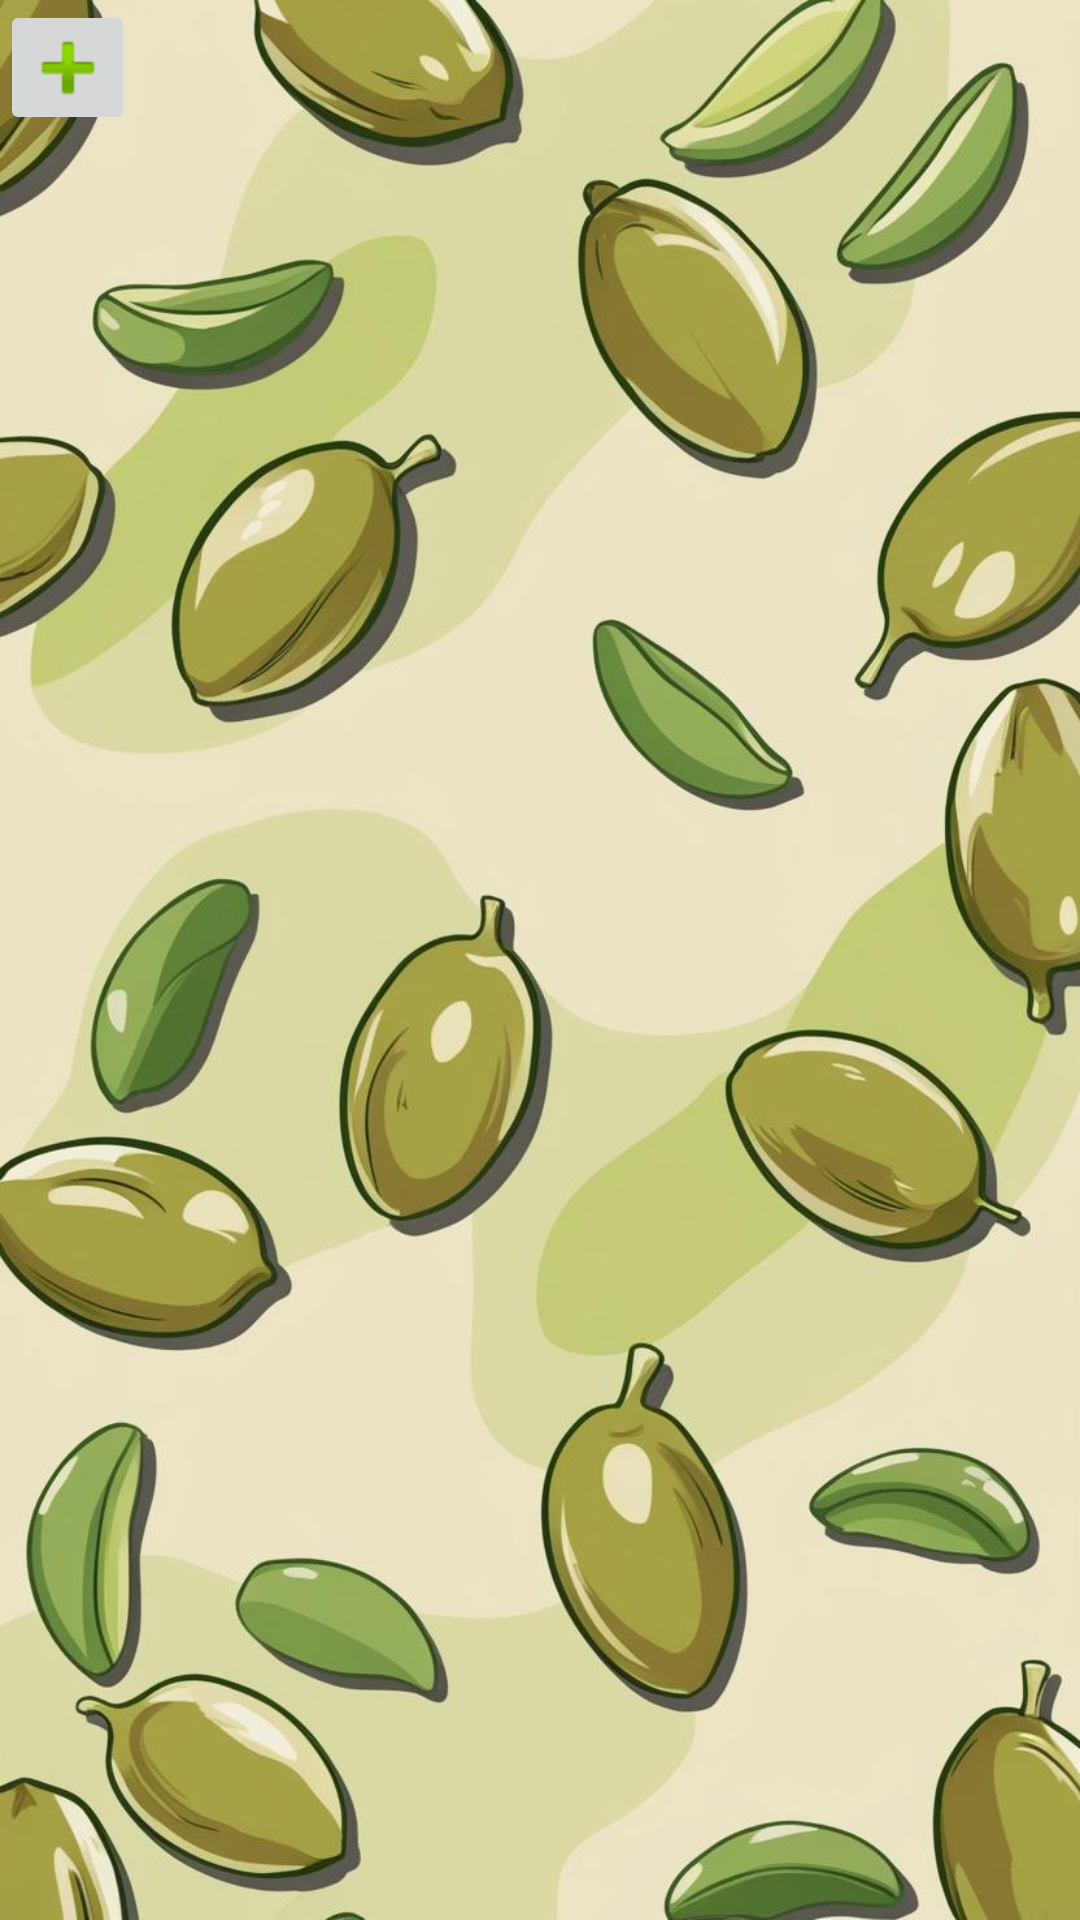

Icons on this 1080×1920 Android screen, each with the point to tap as (x=x, y=y):
add: (x=61, y=67)
